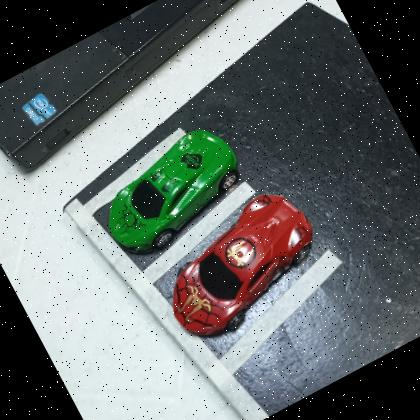Car: (171, 195, 314, 339), (106, 130, 240, 255)
